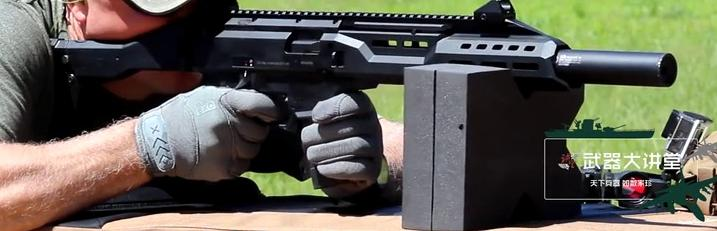gun: (1, 1, 717, 231)
